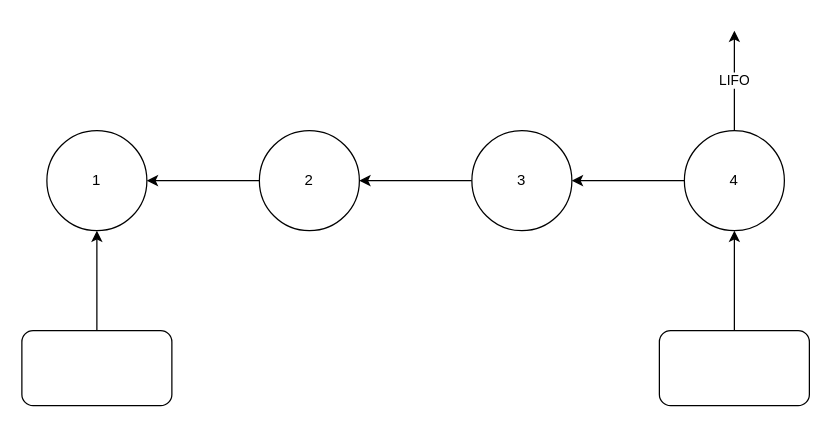
Image size: 831x428. Some labels were removed from this diagram. Each missing label, with the centre of its shape:
first: the point at 733,367
last: the point at 96,367
